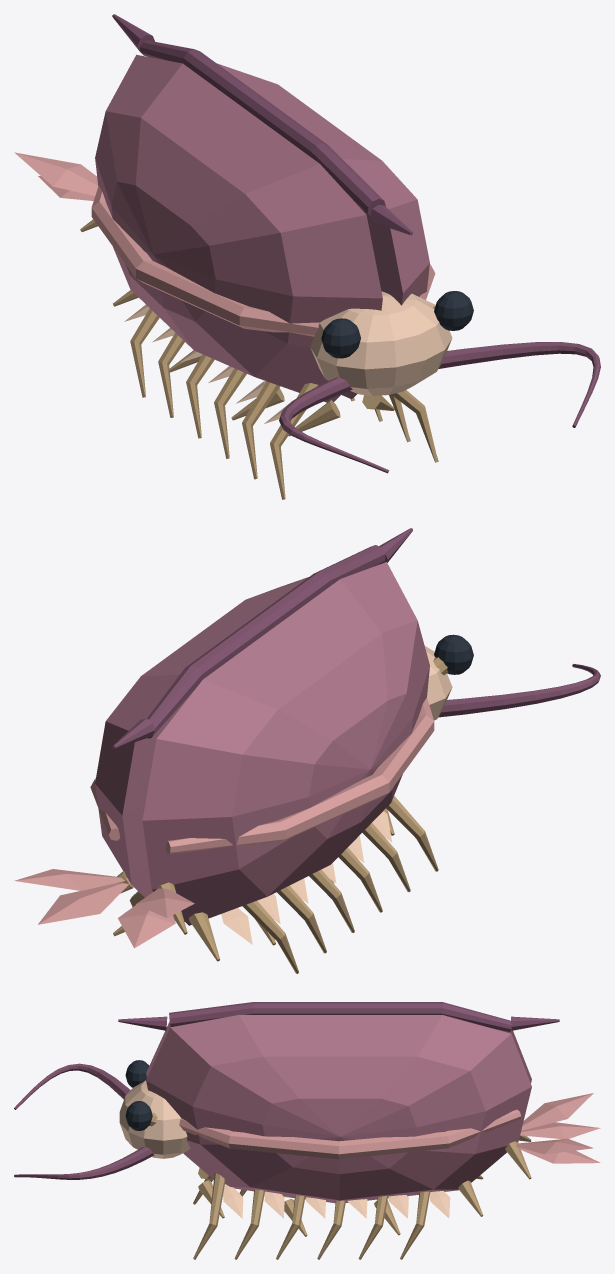
The model's file is tuzoia.glb.
3 views of the same model, one above another, from view 1: azimuth 30°, elevation 25°; view 2: azimuth 150°, elevation 25°; view 3: azimuth 270°, elevation 25° (orthographic). The views are drawn at different scales.
Visible parts, largest first — view 1: left-deep-valve, projecting-anterior-head, right-deep-valve, straight-dorsal-hinge, left-lateral-keel, right-antenna, left-antenna, left-caudal-fan-1, left-eye, right-eye, left-walking-1, left-walking-2 (+6 smaller); view 2: left-deep-valve, right-deep-valve, left-lateral-keel, straight-dorsal-hinge, left-antenna, right-caudal-fan-0, right-caudal-fan-1, left-caudal-fan-0, left-eye, projecting-anterior-head, left-caudal-fan-1, left-walking-5 (+8 smaller); view 3: right-deep-valve, right-lateral-keel, straight-dorsal-hinge, projecting-anterior-head, right-antenna, left-caudal-fan-1, left-antenna, left-caudal-fan-0, right-walking-0, right-caudal-fan-1, right-eye, right-caudal-fan-0 (+14 smaller).
Part boxes in pixels (box(x1,y1,x2,y2)): left-deep-valve: box(95, 54, 382, 402); projecting-anterior-head: box(310, 291, 452, 395); right-deep-valve: box(217, 63, 429, 399); straight-dorsal-hinge: box(139, 40, 385, 215); left-lateral-keel: box(91, 186, 319, 336); right-antenna: box(438, 342, 600, 427); left-antenna: box(279, 377, 389, 473); left-caudal-fan-1: box(14, 152, 98, 195); left-eye: box(321, 318, 360, 358); right-eye: box(434, 291, 473, 330); left-walking-1: box(242, 381, 280, 479); left-walking-2: box(214, 368, 246, 458); left-deep-valve: box(142, 562, 429, 925); right-deep-valve: box(95, 577, 308, 897); left-lateral-keel: box(166, 698, 434, 854); straight-dorsal-hinge: box(147, 545, 385, 738); left-antenna: box(438, 664, 600, 717); right-caudal-fan-0: box(38, 880, 129, 924); right-caudal-fan-1: box(14, 869, 128, 890); left-caudal-fan-0: box(118, 905, 175, 948); left-eye: box(434, 634, 473, 674); projecting-anterior-head: box(425, 646, 452, 720); left-caudal-fan-1: box(135, 888, 194, 917); left-walking-5: box(242, 901, 298, 973); right-deep-valve: box(146, 1015, 531, 1203); right-lateral-keel: box(179, 1109, 521, 1159); straight-dorsal-hinge: box(169, 1002, 511, 1032); projecting-anterior-head: box(119, 1080, 190, 1158); right-antenna: box(14, 1147, 154, 1179); left-caudal-fan-1: box(521, 1093, 593, 1130); left-antenna: box(14, 1063, 130, 1109); left-caudal-fan-0: box(520, 1122, 600, 1139); right-walking-0: box(193, 1173, 225, 1259); right-caudal-fan-1: box(516, 1138, 593, 1154); right-eye: box(125, 1101, 152, 1130); right-caudal-fan-0: box(519, 1148, 600, 1163).
Size of the model in its own units: 0.0694 by 0.066 by 0.1533.
